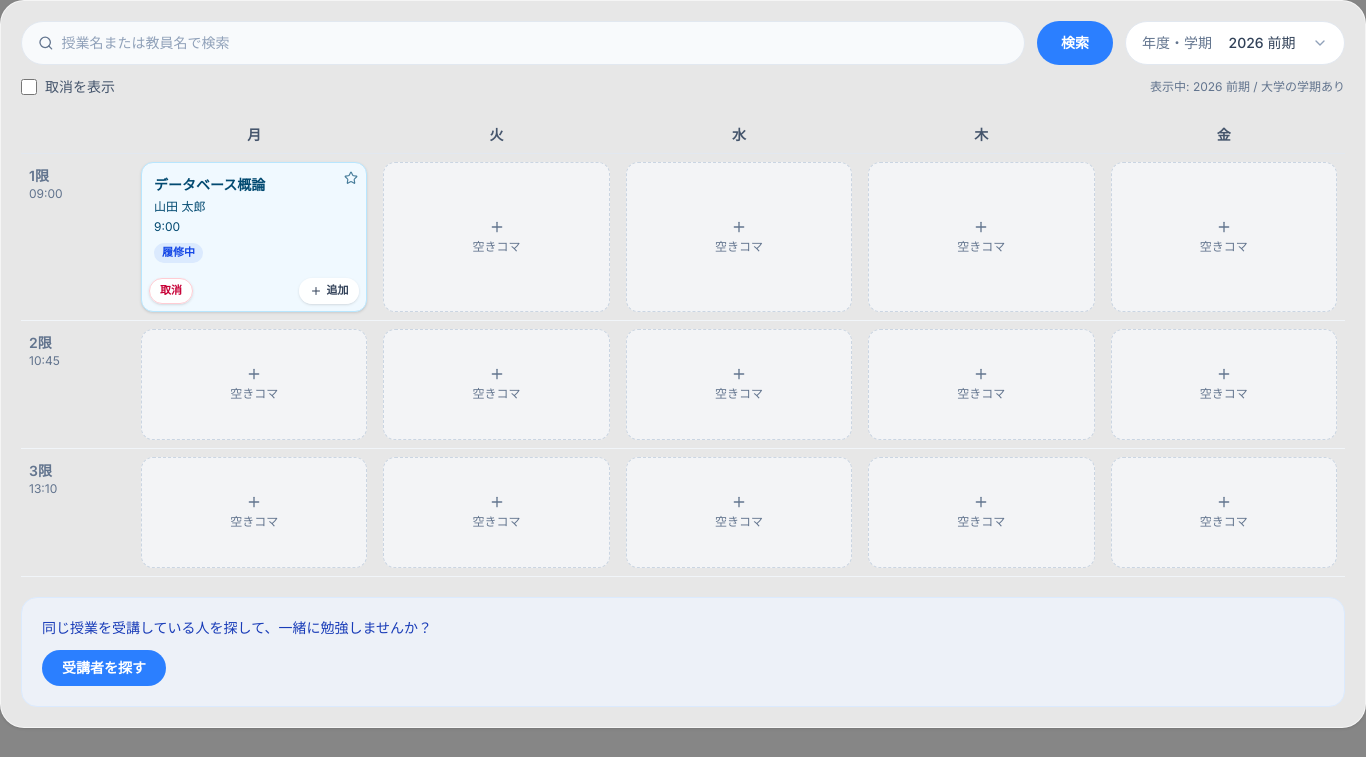
Test: TimetableGrid › removes an offering from the visible timetable after confirmation
Check: the text "データベース概論" is shown, box [154,176,265,193]
Step 1. Click the button with aria-label "時間割から取り消し" → (171, 291), box [149,278,193,304]
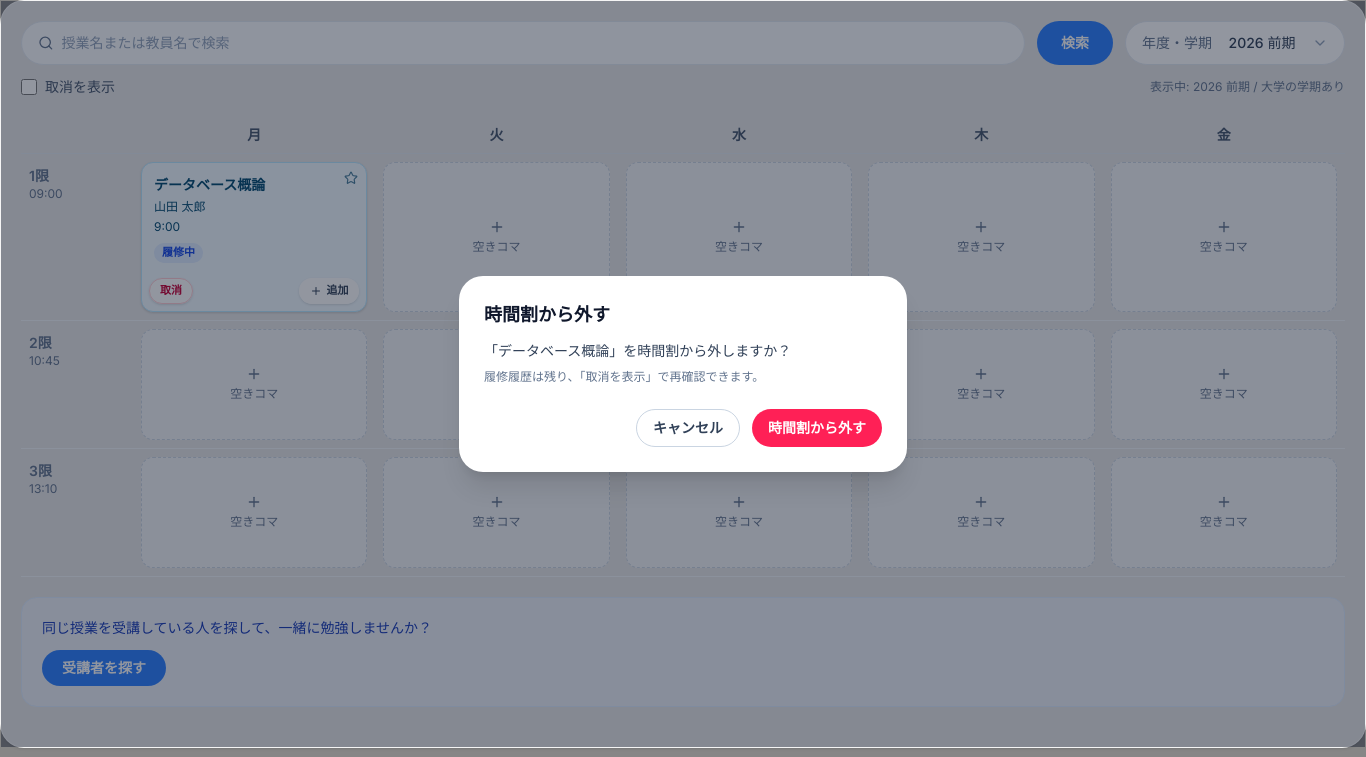
Check: the dialog "時間割から外す" is shown, box [459,276,907,472]
Step 2. Click the button "時間割から外す" → (817, 428), box [752,409,882,447]
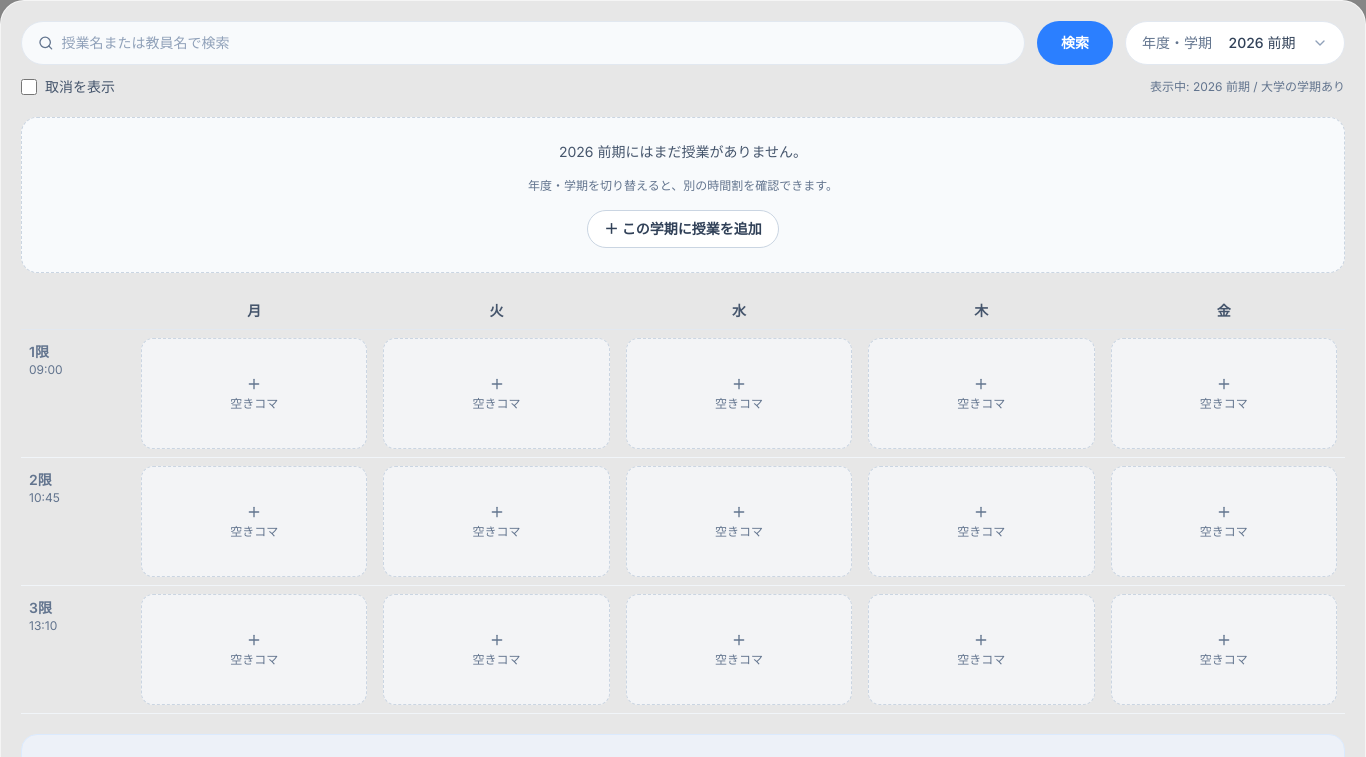
Check: no buttons "データベース概論" are shown
